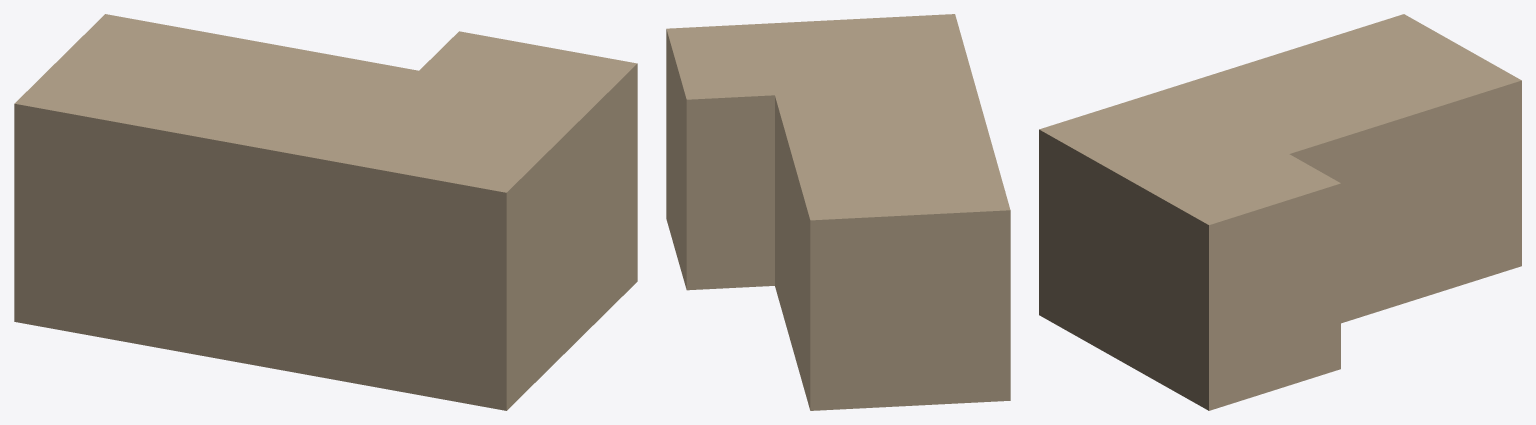
File: bld_512403798.dae
3 views of the same model, side by side, from view 1: azimuth 30°, elevation 25°; view 2: azimuth 150°, elevation 25°; view 3: azimuth 270°, elevation 25° (orthographic). The views are drawn at different scales.
Visible parts, largest first — view 1: bld_512403798; view 2: bld_512403798; view 3: bld_512403798.
Part boxes in pixels (x1,y1,x2,y2): bld_512403798: [14, 14, 637, 410]; bld_512403798: [666, 14, 1010, 410]; bld_512403798: [1039, 14, 1521, 410].
Size of the model in its own units: 19.51 by 18.85 by 8.
